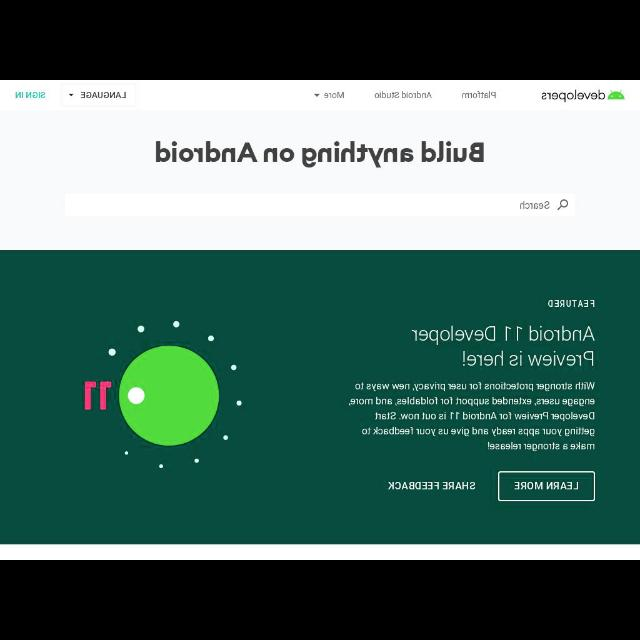icon: (557, 199, 569, 211), (314, 93, 320, 97), (68, 94, 74, 96)
image: (85, 321, 242, 471), (542, 90, 624, 102)
multitab: (312, 90, 496, 100)
panel: (1, 252, 639, 544)
spinner: (61, 84, 135, 106), (314, 91, 344, 99)
text: (348, 381, 596, 452), (156, 142, 484, 168), (412, 326, 594, 366), (388, 482, 476, 490), (514, 482, 578, 490), (548, 300, 594, 308), (374, 92, 432, 98), (462, 90, 496, 100), (80, 92, 126, 98), (519, 201, 549, 209), (14, 92, 46, 98), (324, 92, 344, 98)
textbutton: (498, 471, 594, 501)
